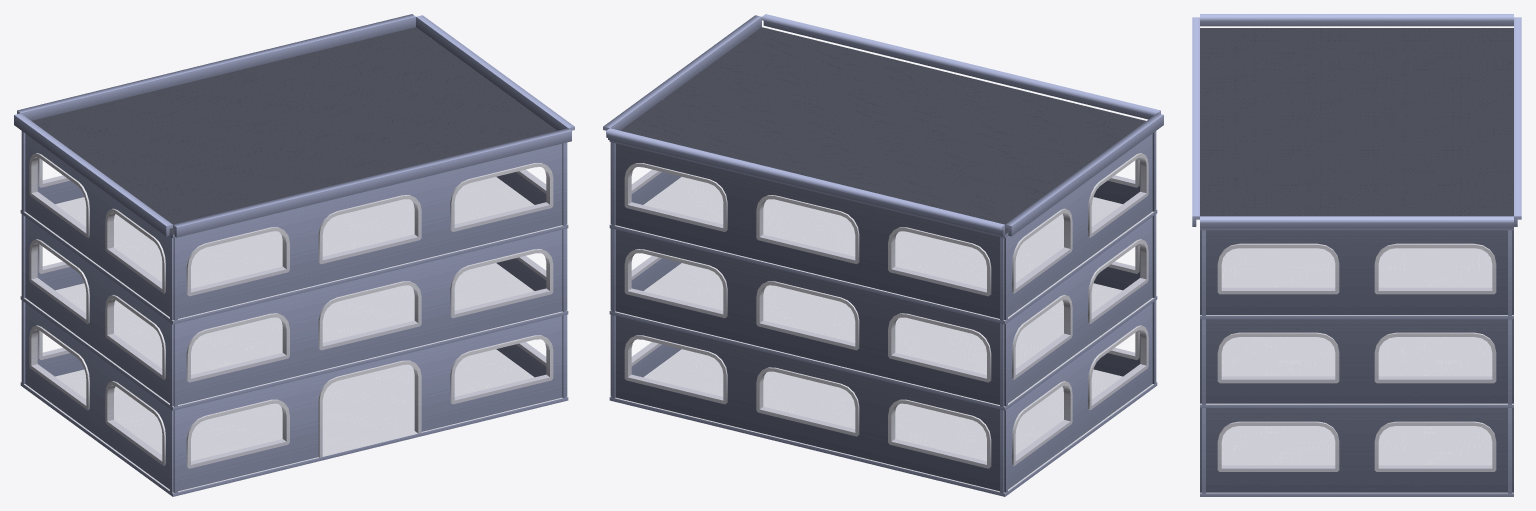
File: scenery_building_2.glb
3 renders of one model, left to right at view 1: azimuth 30°, elevation 25°; view 2: azimuth 150°, elevation 25°; view 3: azimuth 270°, elevation 25°, orthographic. The views are drawn at different scales.
Parts seen in each view (by area): view 1: scenery_building_2; view 2: scenery_building_2; view 3: scenery_building_2.
Boxes of the visible parts, x1,y1,x2,y2 form: scenery_building_2: (14,14,574,496); scenery_building_2: (603,14,1163,496); scenery_building_2: (1192,14,1521,496).
Size of the model in its own units: 23.54 by 15 by 15.95.
5 materials, 5 textured.
